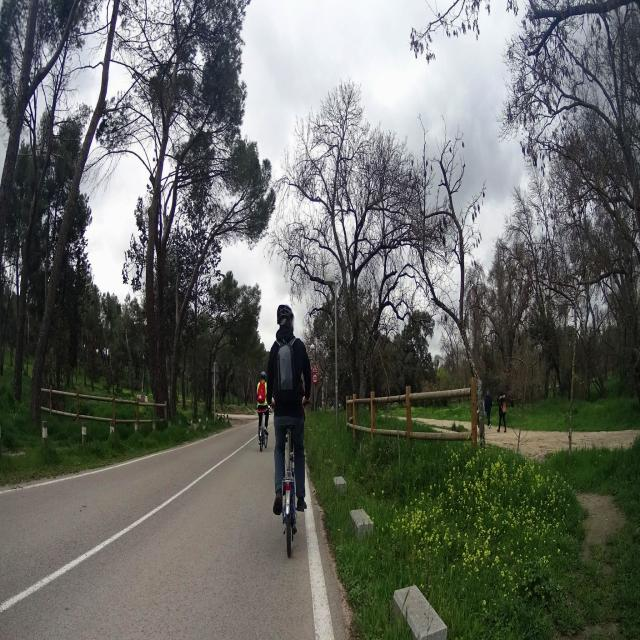bike: (267, 385, 310, 560)
